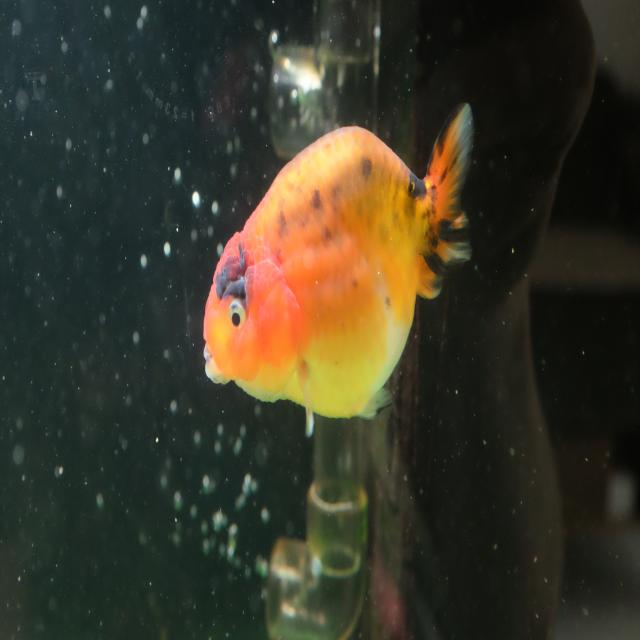Goldfish: (202, 103, 472, 438)
